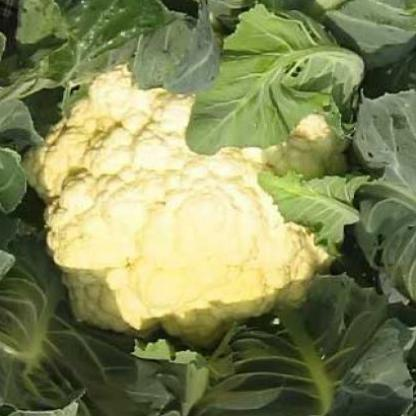cauliflower: (18, 76, 359, 321)
